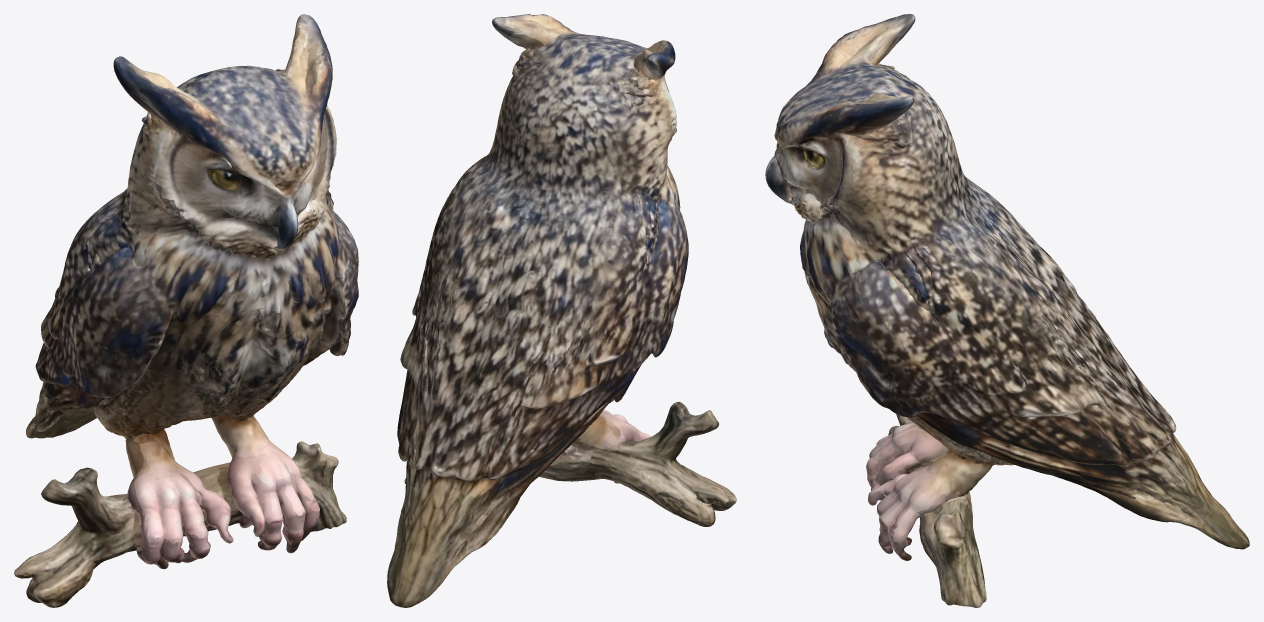
3 views of the same model, side by side, from view 1: azimuth 30°, elevation 25°; view 2: azimuth 150°, elevation 25°; view 3: azimuth 270°, elevation 25° (orthographic). The views are drawn at different scales.
Parts seen in each view (by area): view 1: geometry_0; view 2: geometry_0; view 3: geometry_0.
Boxes of the visible parts, x1,y1,x2,y2 form: geometry_0: (14,14,358,607); geometry_0: (387,14,736,607); geometry_0: (765,14,1249,607).
Bounding box in the file's own units: 0.4429 × 0.65 × 0.5886.
1 material, 1 textured.
